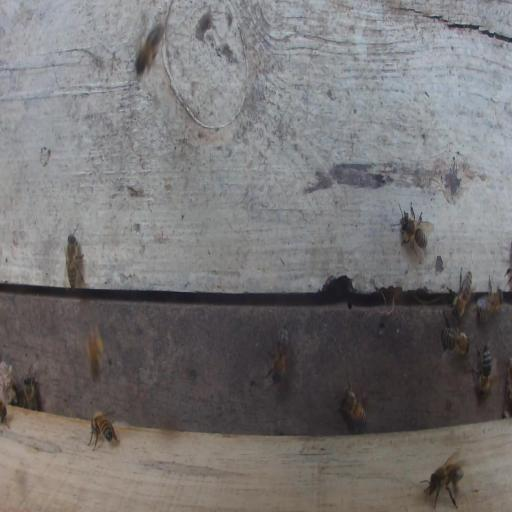nonpollenbee: (421, 451, 465, 510), (391, 203, 433, 259), (339, 375, 367, 435), (265, 314, 289, 381), (446, 265, 475, 319), (136, 24, 165, 74), (63, 232, 86, 293), (475, 276, 503, 324), (87, 411, 119, 451), (472, 340, 492, 396), (441, 324, 471, 356), (23, 372, 39, 411)
pollenbee: (87, 322, 103, 382)
